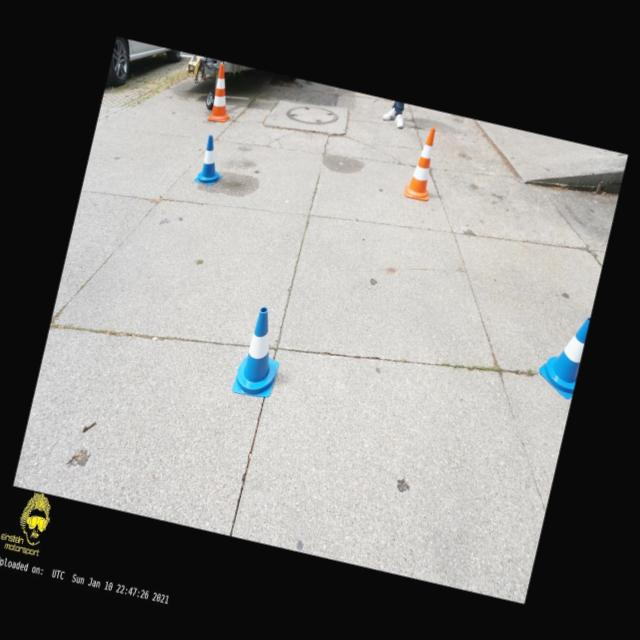blue_cone: (231, 302, 291, 400), (534, 308, 590, 399), (193, 134, 230, 187)
large_orange_cone: (402, 124, 443, 202), (207, 64, 240, 124)
